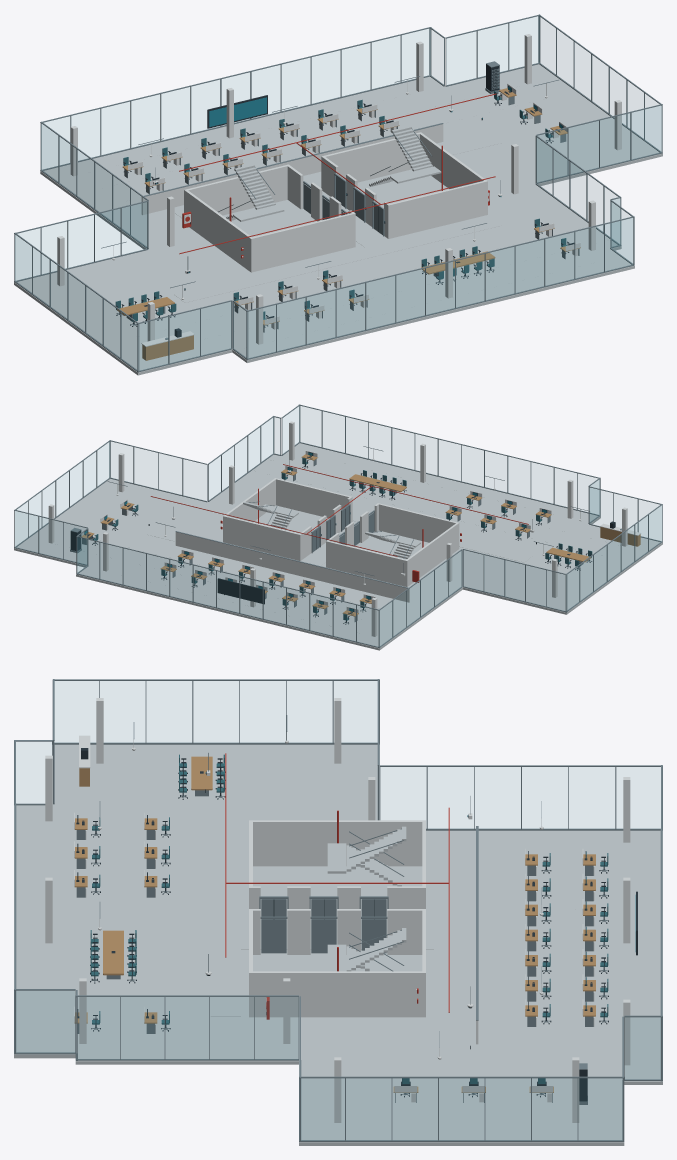
The picture shows the model from 3 angles, top to bottom: view 1: azimuth 30°, elevation 25°; view 2: azimuth 150°, elevation 25°; view 3: azimuth 270°, elevation 25°; orthographic projection. The views are drawn at different scales.
Visible parts, largest first — view 1: T1_F08_SLAB, T1_F08_WHITE, T1_F08_GLASS_S, T1_F08_GLASS_N, T1_F08_STEEL, T1_F08_GLASS_W, T1_F08_GLASS_E, T1_F08_WOOD, T1_F08_FABRIC, T1_F08_DARK, T1_F08_RED, T1_F08_SCREEN; view 2: T1_F08_SLAB, T1_F08_WHITE, T1_F08_GLASS_N, T1_F08_GLASS_S, T1_F08_STEEL, T1_F08_GLASS_W, T1_F08_GLASS_E, T1_F08_WOOD, T1_F08_DARK, T1_F08_FABRIC, T1_F08_RED; view 3: T1_F08_SLAB, T1_F08_GLASS_E, T1_F08_GLASS_W, T1_F08_WHITE, T1_F08_STEEL, T1_F08_WOOD, T1_F08_DARK, T1_F08_FABRIC, T1_F08_RED.
Part boxes in pixels (x1,y1,x2,y2): T1_F08_SLAB: (14, 64, 662, 375); T1_F08_WHITE: (57, 34, 621, 346); T1_F08_GLASS_S: (140, 106, 660, 370); T1_F08_GLASS_N: (19, 17, 538, 267); T1_F08_STEEL: (14, 14, 662, 372); T1_F08_GLASS_W: (15, 125, 245, 369); T1_F08_GLASS_E: (431, 18, 657, 243); T1_F08_WOOD: (117, 88, 580, 360); T1_F08_FABRIC: (115, 90, 567, 321); T1_F08_DARK: (116, 64, 574, 337); T1_F08_RED: (179, 93, 496, 258); T1_F08_SCREEN: (156, 75, 562, 289); T1_F08_SLAB: (14, 443, 662, 650); T1_F08_WHITE: (48, 421, 641, 636); T1_F08_GLASS_N: (15, 512, 564, 646); T1_F08_GLASS_S: (110, 406, 657, 527); T1_F08_STEEL: (14, 404, 662, 648); T1_F08_GLASS_W: (380, 480, 661, 645); T1_F08_GLASS_E: (18, 408, 298, 536); T1_F08_WOOD: (81, 454, 640, 616); T1_F08_DARK: (70, 452, 615, 624); T1_F08_FABRIC: (92, 457, 592, 620); T1_F08_RED: (150, 464, 528, 582); T1_F08_SLAB: (14, 744, 662, 1145); T1_F08_GLASS_E: (16, 991, 660, 1139); T1_F08_GLASS_W: (16, 681, 660, 828); T1_F08_WHITE: (45, 698, 630, 1122); T1_F08_STEEL: (14, 679, 662, 1141); T1_F08_WOOD: (74, 756, 595, 1092); T1_F08_DARK: (76, 748, 637, 1101); T1_F08_FABRIC: (90, 754, 608, 1083); T1_F08_RED: (225, 753, 449, 1019).
Bounding box in the file's own units: 55.47 × 4.5 × 38.19.
